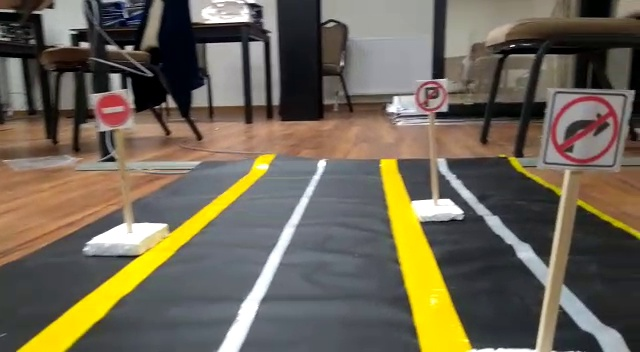girisi_olmayan_yol: (92, 91, 133, 130)
park_yapilmaz: (414, 78, 449, 116)
saga_donulmez: (551, 88, 619, 167)
